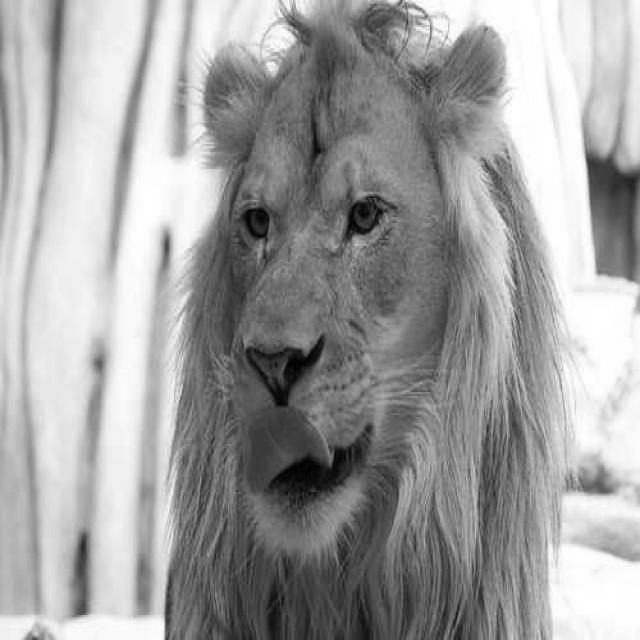Lion: (196, 30, 532, 622)
